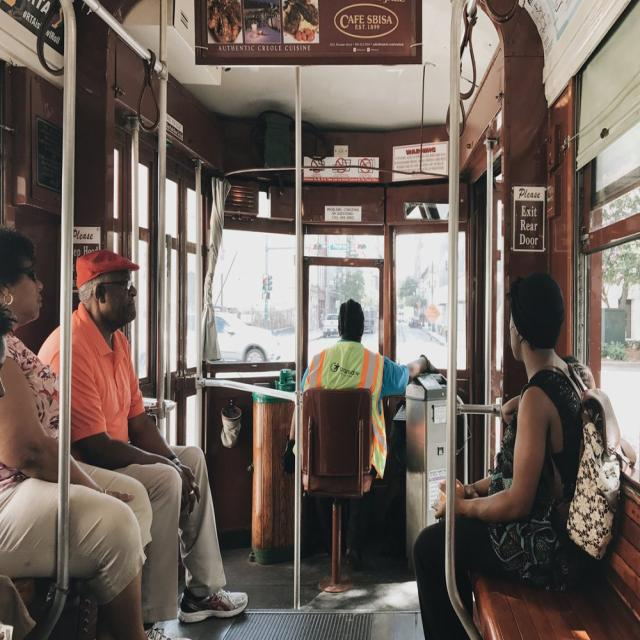body: (34, 247, 250, 640), (413, 271, 638, 640), (0, 223, 154, 640), (278, 295, 439, 578), (0, 296, 16, 405)
